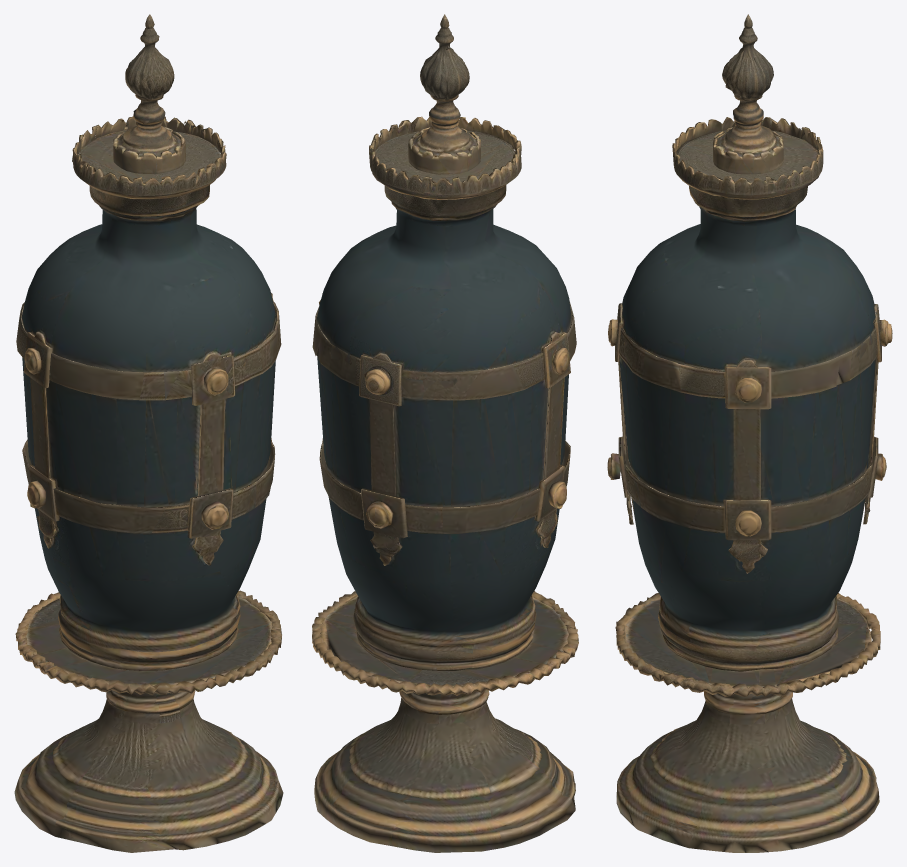
Rendered from jar.glb.
3 views of the same model, side by side, from view 1: azimuth 30°, elevation 25°; view 2: azimuth 150°, elevation 25°; view 3: azimuth 270°, elevation 25° (orthographic).
Visible parts, largest first — view 1: midway-fit; view 2: midway-fit; view 3: midway-fit.
Part boxes in pixels (x1,y1,x2,y2): midway-fit: (14, 14, 283, 852); midway-fit: (312, 14, 578, 852); midway-fit: (607, 14, 892, 852).
Size of the model in its own units: 0.3267 by 1 by 0.3297.
Materials: 1 (1 with a texture image).
